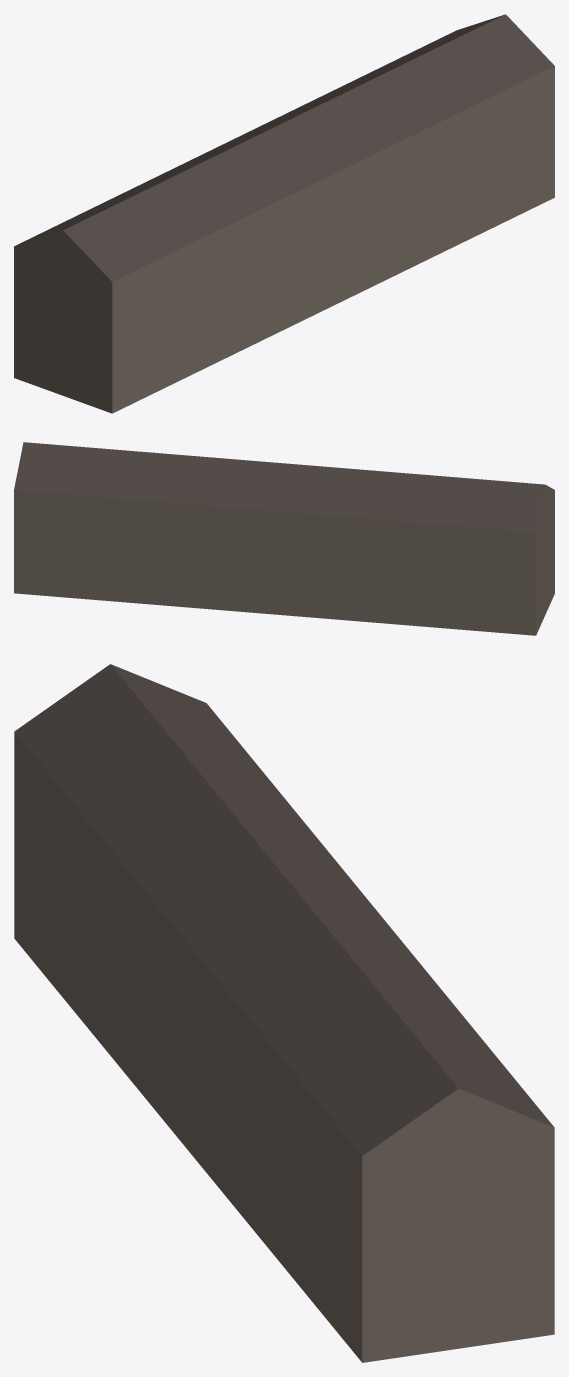
3 views of the same model, one above another, from view 1: azimuth 30°, elevation 25°; view 2: azimuth 150°, elevation 25°; view 3: azimuth 270°, elevation 25° (orthographic). The views are drawn at different scales.
Visible parts, largest first — view 1: HP-w859078891; view 2: HP-w859078891; view 3: HP-w859078891.
Part boxes in pixels (<box>): HP-w859078891: <box>14,14,554,413</box>; HP-w859078891: <box>14,442,554,635</box>; HP-w859078891: <box>14,664,554,1362</box>.
Bounding box in the file's own units: 42.27 × 11.32 × 21.31.
